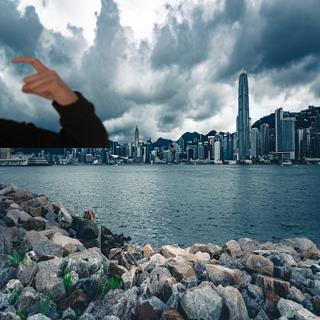WHY: (8, 50, 76, 105)
